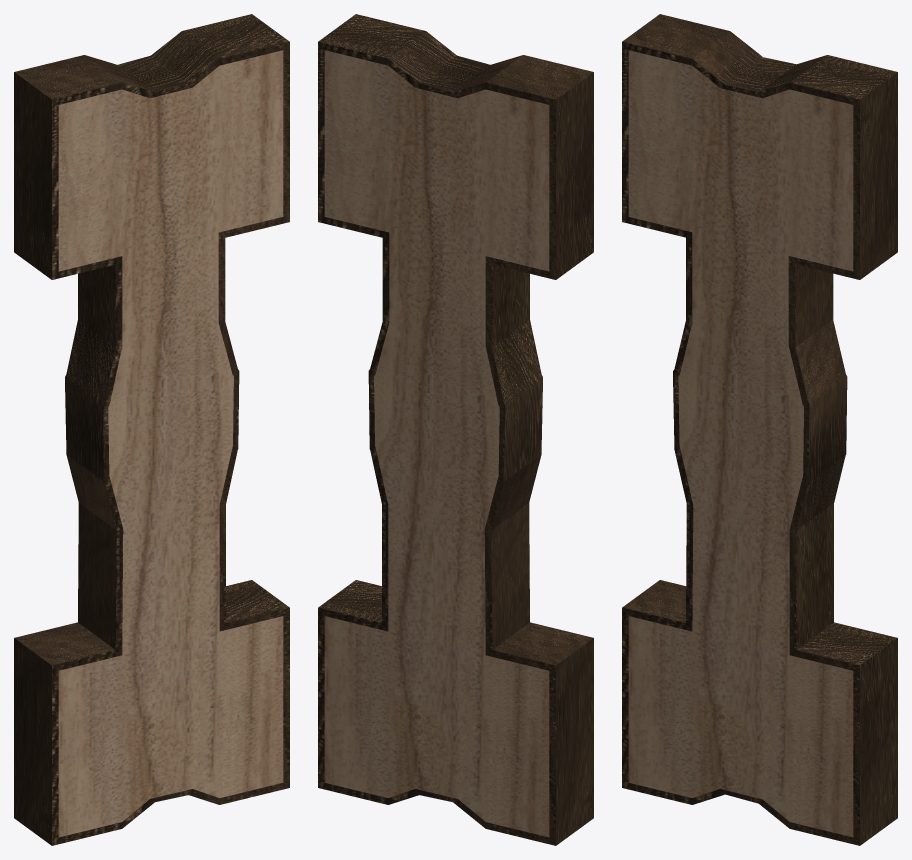
The picture shows the model from 3 angles, left to right: view 1: azimuth 30°, elevation 25°; view 2: azimuth 150°, elevation 25°; view 3: azimuth 330°, elevation 25°; orthographic projection.
Visible parts, largest first — view 1: I, I_outline; view 2: I, I_outline; view 3: I, I_outline.
Boxes of the visible parts, x1,y1,x2,y2 form: I: (58, 50, 283, 837); I_outline: (14, 14, 289, 845); I: (324, 50, 549, 837); I_outline: (318, 14, 593, 845); I: (628, 50, 853, 837); I_outline: (622, 14, 897, 845).
Bounding box in the file's own units: 36.29 × 109 × 10.
2 materials, 2 textured.
